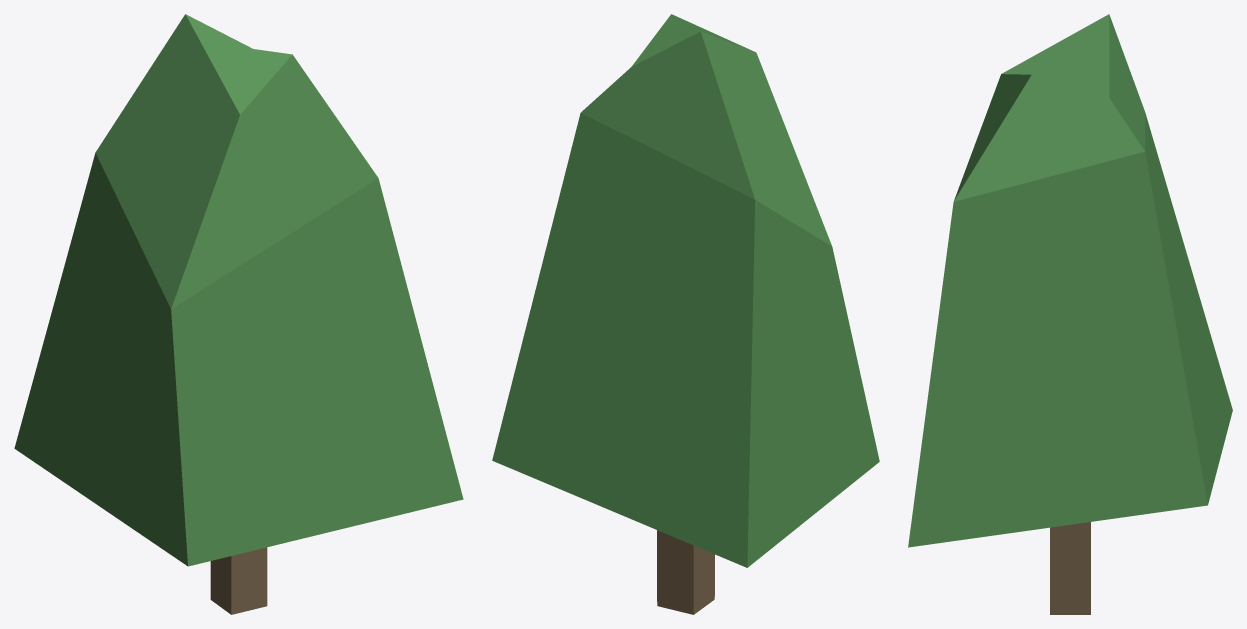
Rendered from tree_02.fbx.
3 views of the same model, side by side, from view 1: azimuth 30°, elevation 25°; view 2: azimuth 150°, elevation 25°; view 3: azimuth 270°, elevation 25° (orthographic). The views are drawn at different scales.
Parts seen in each view (by area): view 1: pasted__pCube6; view 2: pasted__pCube6; view 3: pasted__pCube6.
Boxes of the visible parts, x1=… form: pasted__pCube6: x1=14, y1=14, x2=463, y2=614; pasted__pCube6: x1=492, y1=14, x2=879, y2=614; pasted__pCube6: x1=908, y1=14, x2=1232, y2=614.
Bounding box in the file's own units: 0.5103 × 0.9983 × 0.5103.
